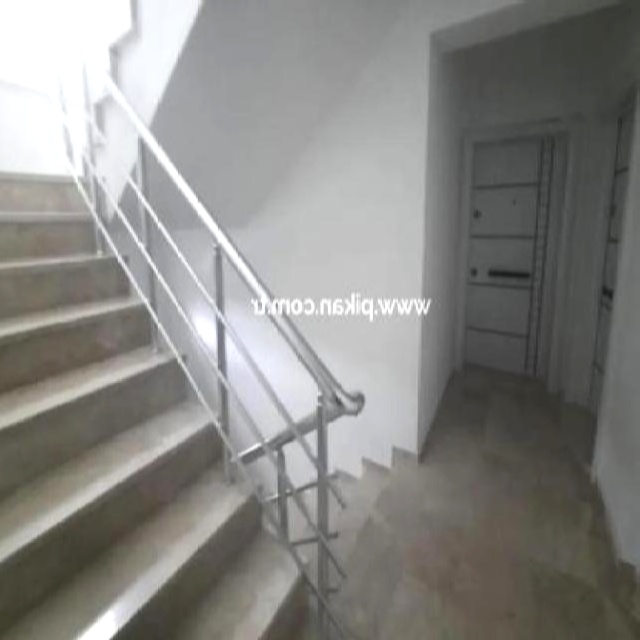stair: (0, 173, 334, 639), (72, 0, 176, 146)
